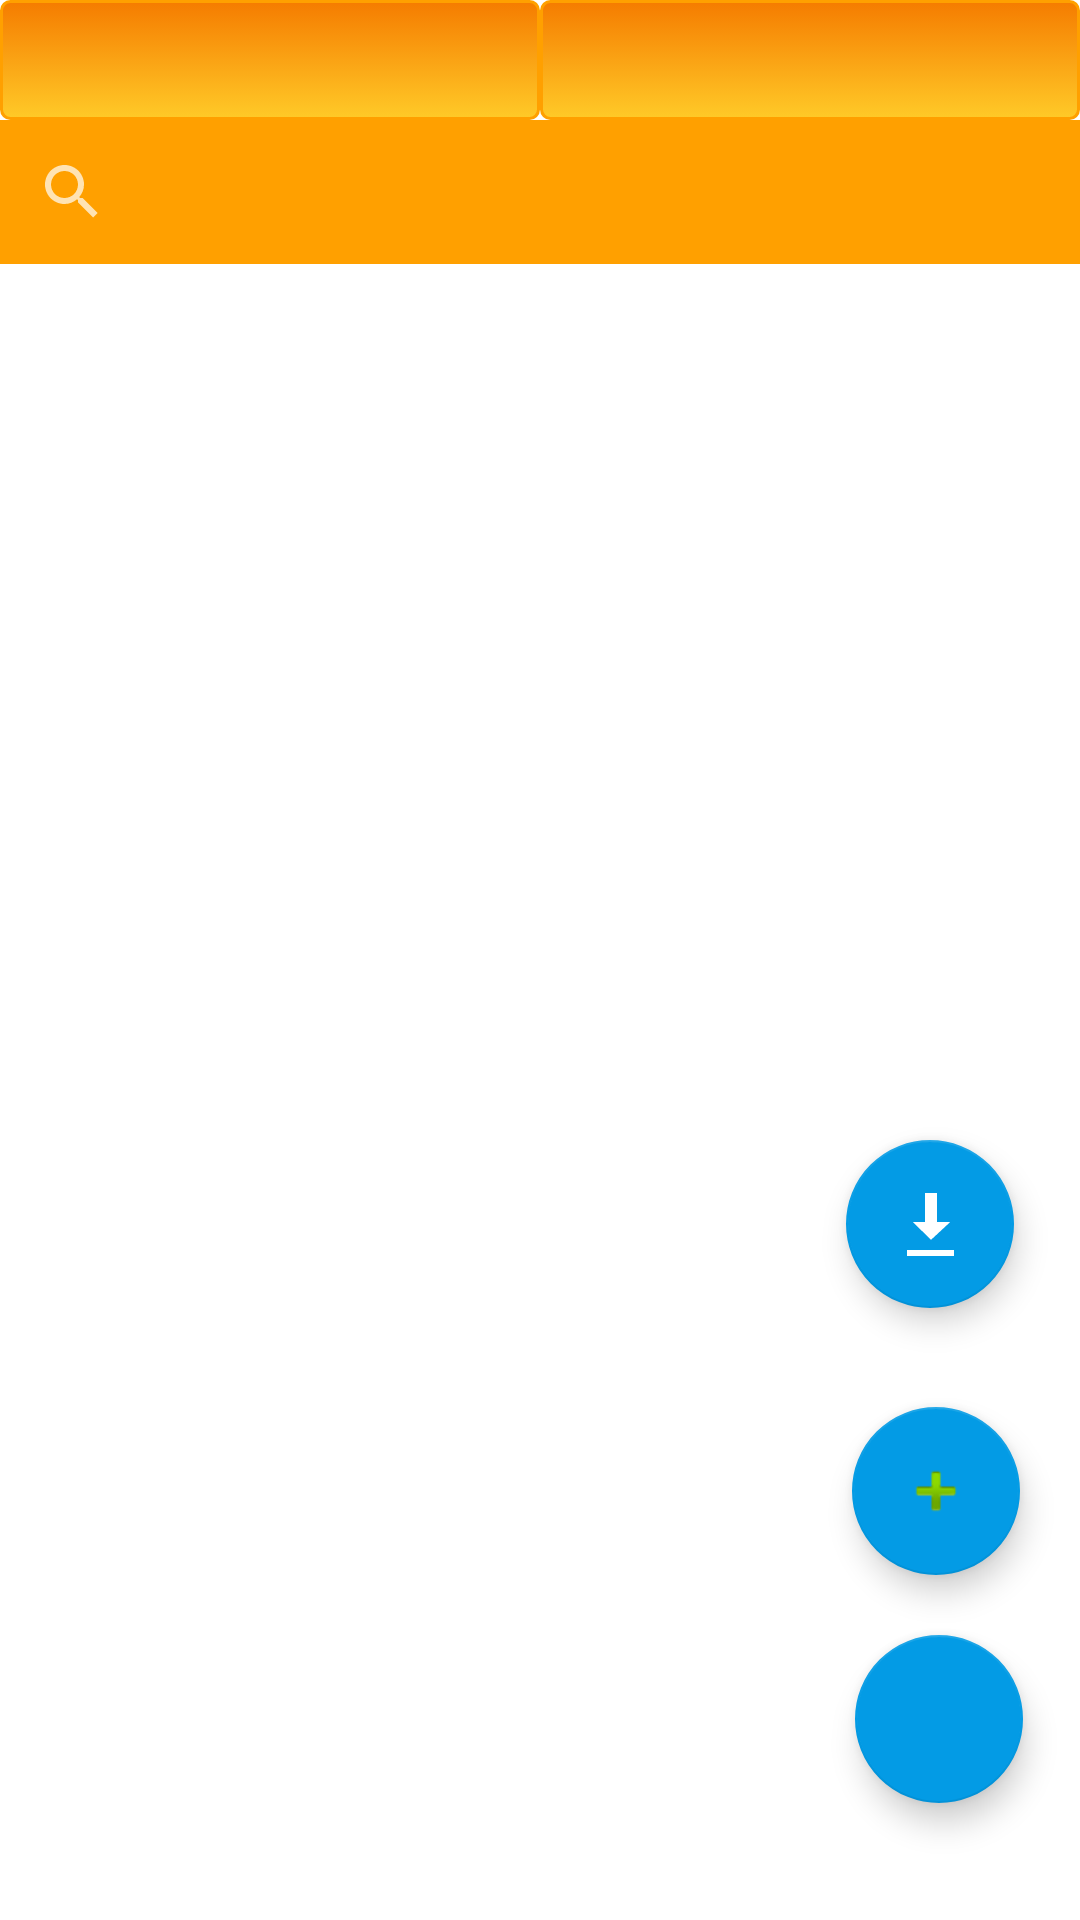

Icons on this 1080 × 1920 Android screen, each with the point to tap as point (x, y):
add: point (936, 1491)
download: point (930, 1224)
